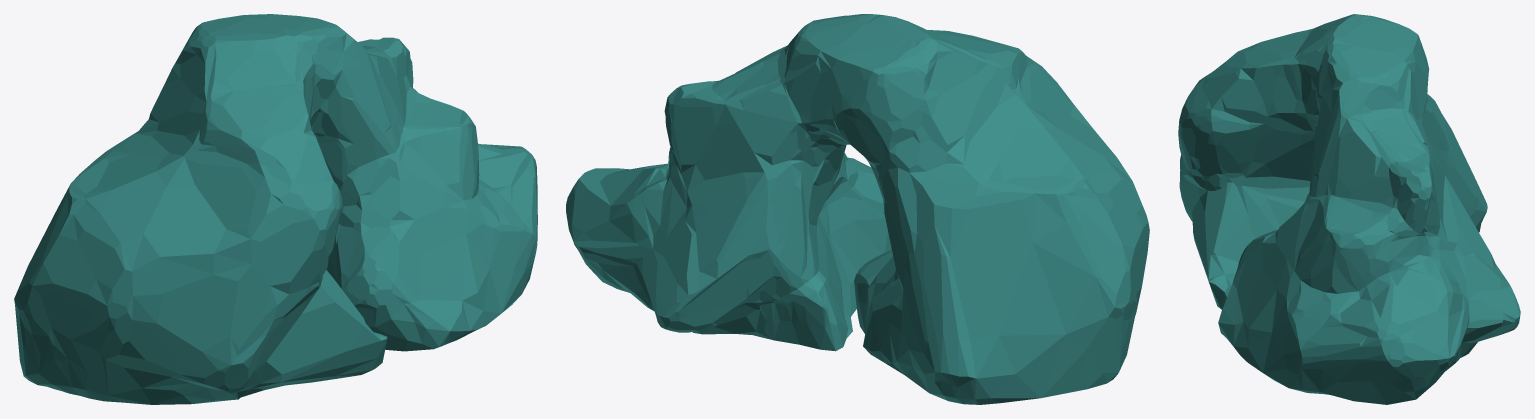
Rendered from SM_Rock_Sea_Huge_Tunnel_A.fbx.
3 views of the same model, side by side, from view 1: azimuth 30°, elevation 25°; view 2: azimuth 150°, elevation 25°; view 3: azimuth 270°, elevation 25° (orthographic). The views are drawn at different scales.
Parts seen in each view (by area): view 1: rock-sea-huge-tunnel-a; view 2: rock-sea-huge-tunnel-a; view 3: rock-sea-huge-tunnel-a.
Boxes of the visible parts, x1,y1,x2,y2 form: rock-sea-huge-tunnel-a: [14, 14, 537, 404]; rock-sea-huge-tunnel-a: [566, 14, 1149, 404]; rock-sea-huge-tunnel-a: [1178, 14, 1520, 404].
Bounding box in the file's own units: 24 × 12.71 × 15.02.
